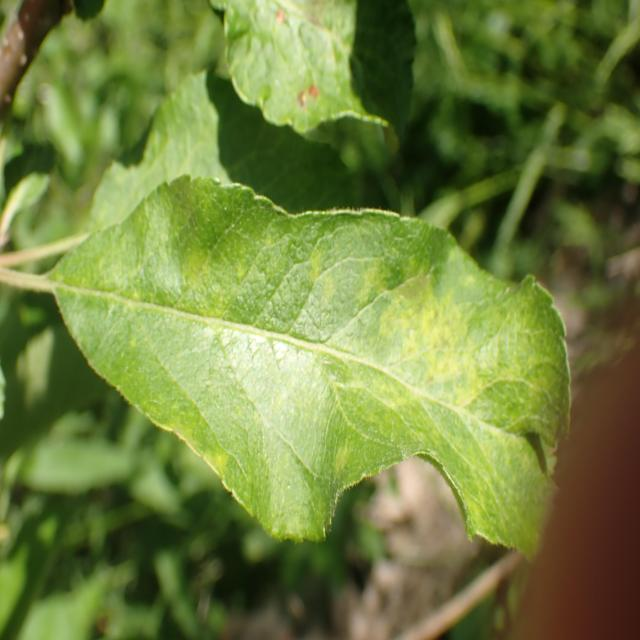scab: (82, 192, 542, 515), (253, 0, 349, 122)
